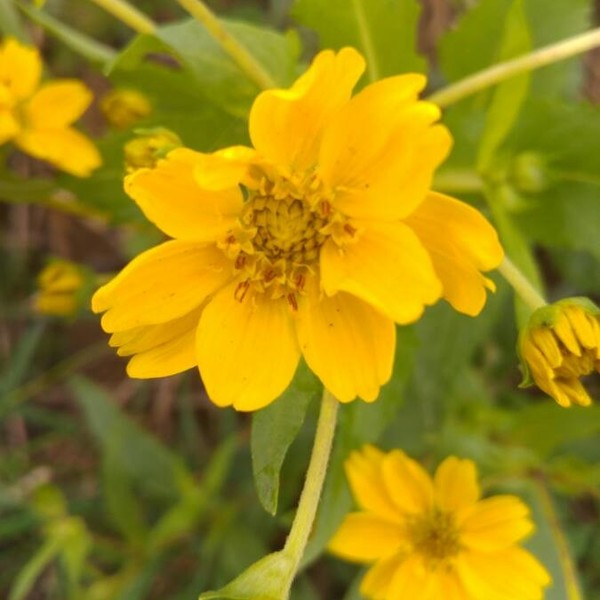obstacle: (109, 102, 490, 549)
